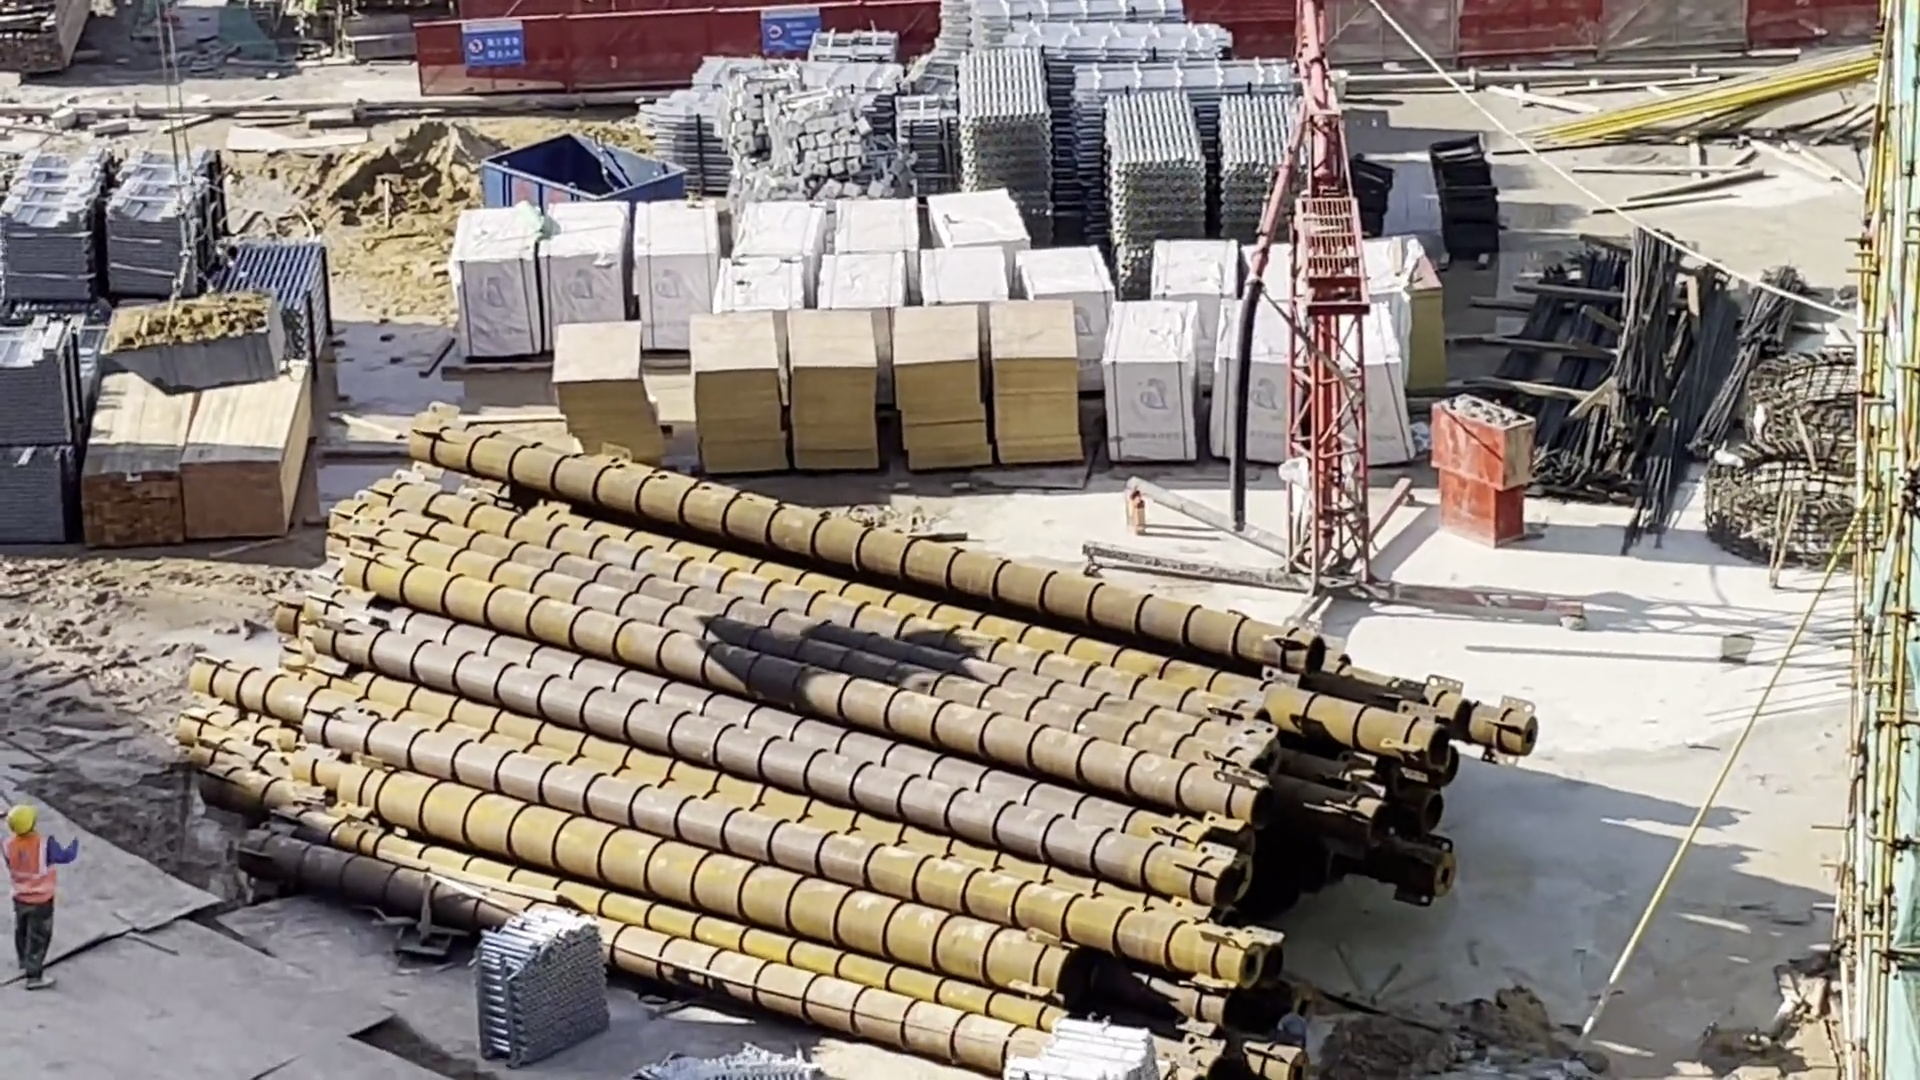board: (188, 381, 298, 541), (783, 317, 877, 489), (684, 323, 772, 495), (545, 325, 641, 472), (993, 309, 1083, 465), (895, 312, 976, 468)
fence: (1183, 1, 1877, 63), (436, 5, 927, 77)
helmet: (11, 805, 39, 832)
hopper: (119, 306, 271, 378), (498, 146, 693, 201)
person: (1, 805, 79, 983)
rebar: (1619, 299, 1731, 512), (1685, 278, 1804, 451), (1513, 268, 1615, 459), (1585, 246, 1673, 413), (1467, 267, 1565, 407)
scaffold: (491, 929, 617, 1063), (1104, 115, 1216, 232), (971, 71, 1077, 191), (245, 242, 332, 363), (1232, 111, 1321, 212), (1011, 1011, 1128, 1080), (1079, 69, 1308, 99), (1029, 29, 1203, 69), (891, 95, 972, 176), (661, 112, 737, 188), (991, 1, 1200, 29)
slogan: (451, 22, 530, 72), (759, 12, 823, 53)
vest: (1, 847, 52, 905)
wood: (87, 373, 184, 540), (4, 32, 60, 71), (9, 5, 56, 33)
